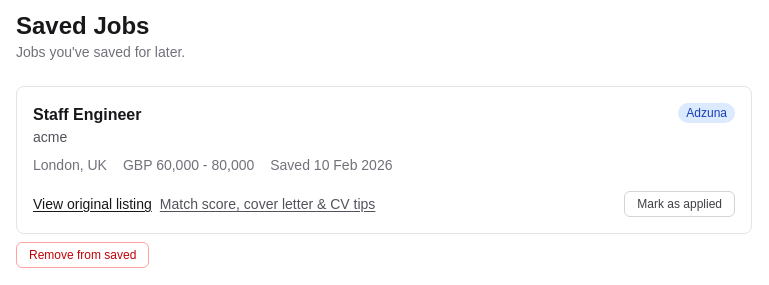
Scenario: SavedJobsScreen › marks a saved job as applied and immediately shows the applied confirmation
Expected: the heading "Staff Engineer" is shown, [33,103,142,127]
Click the button "Mark as applied" at (680, 204), box [624,191,735,217]
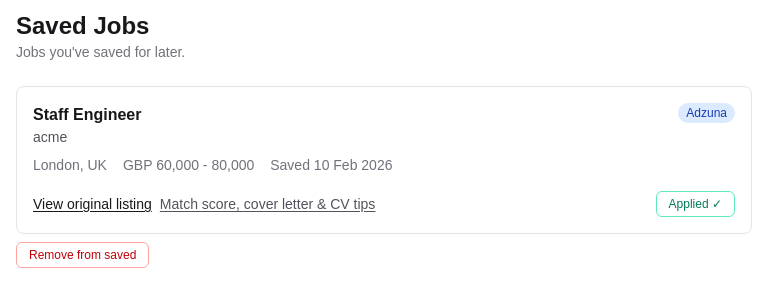
Expected: the text "Saved 10 Feb 2026" is shown, [270,155,392,175]
Result: the text "Applied ✓" is shown at [656,191,735,217]
